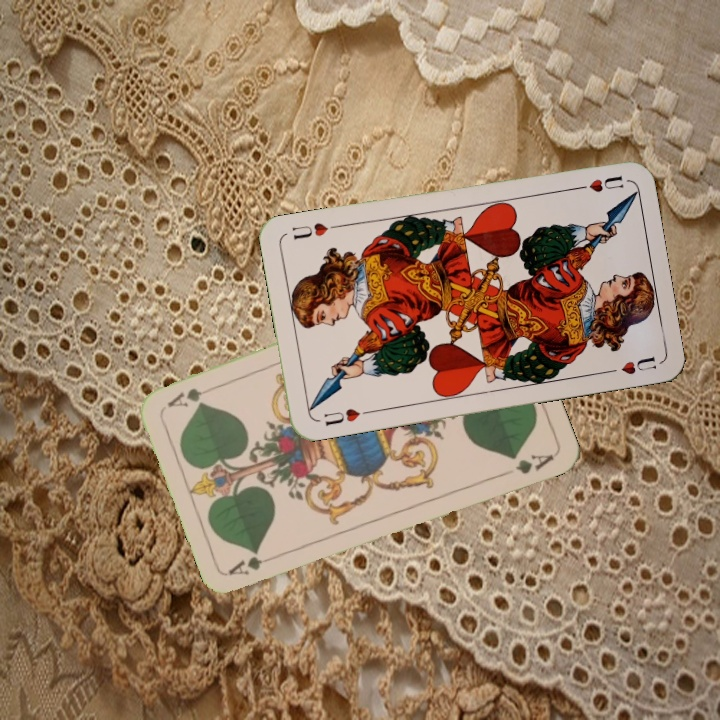GA: (225, 549, 283, 578)
HU: (569, 171, 626, 195), (319, 404, 373, 429)
